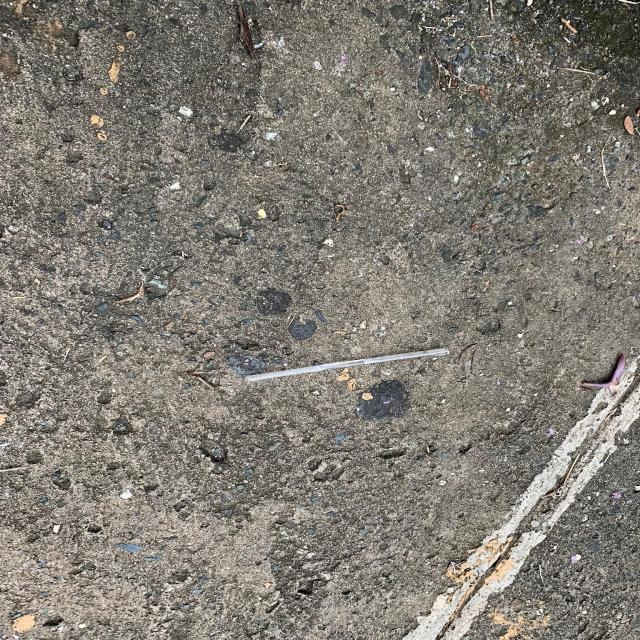litter: (245, 347, 449, 382)
